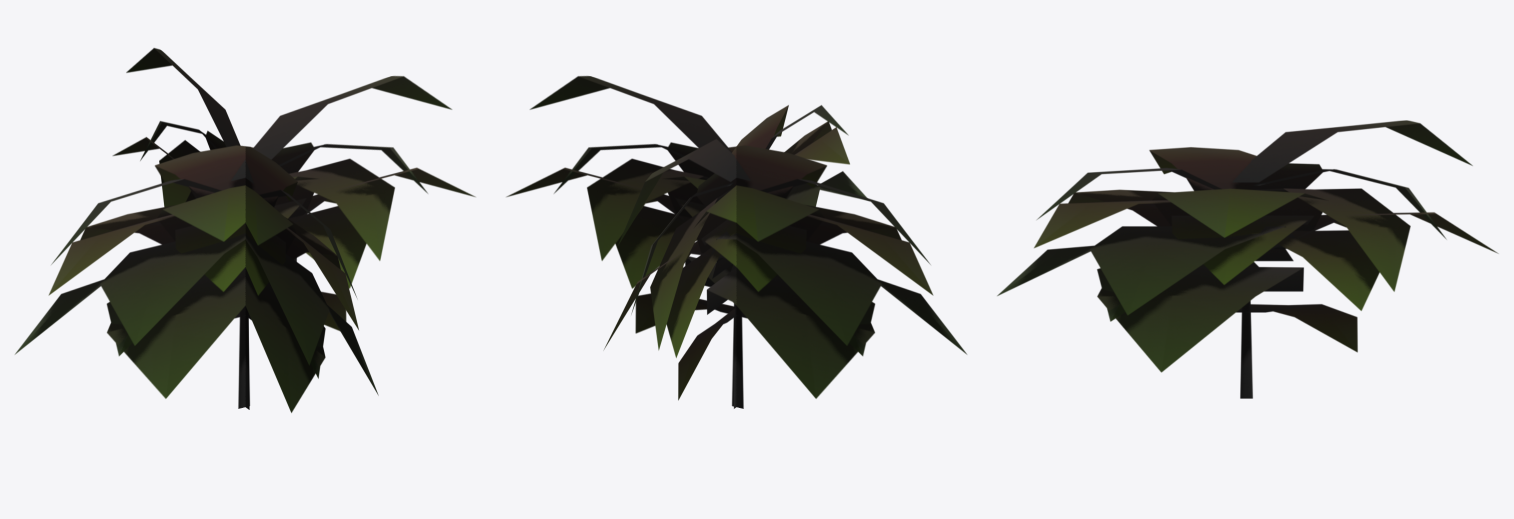
The model's file is bush_c_card.glb.
The picture shows the model from 3 angles, left to right: view 1: azimuth 30°, elevation 25°; view 2: azimuth 150°, elevation 25°; view 3: azimuth 270°, elevation 25°; orthographic projection. The views are drawn at different scales.
Visible parts, largest first — view 1: bush_c_card; view 2: bush_c_card; view 3: bush_c_card.
Part boxes in pixels (bbox=[...]): bush_c_card: bbox=[15, 48, 475, 412]; bush_c_card: bbox=[506, 76, 966, 408]; bush_c_card: bbox=[997, 120, 1498, 398].
Size of the model in its own units: 2.53 by 1.54 by 2.53.
Materials: 1 (1 with a texture image).
